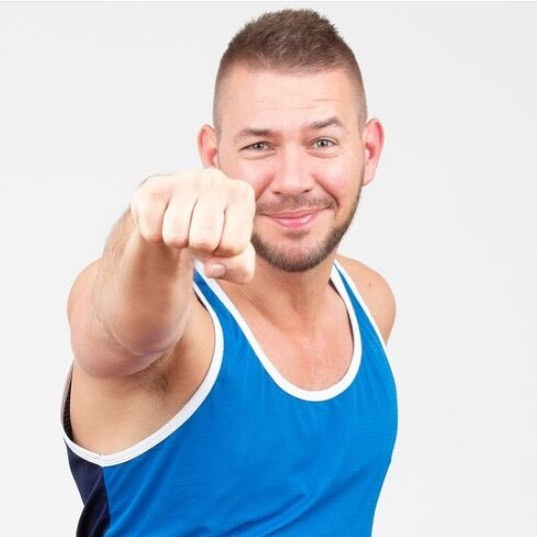hand: (147, 179, 248, 269)
